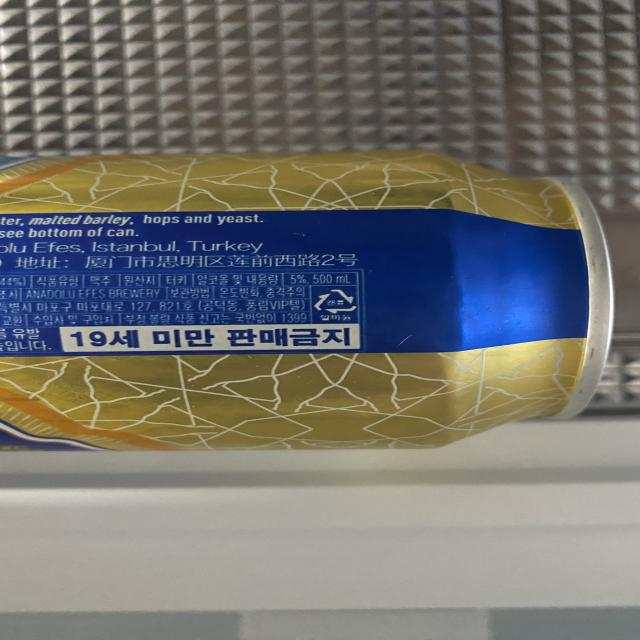Can: (313, 288, 358, 315)
